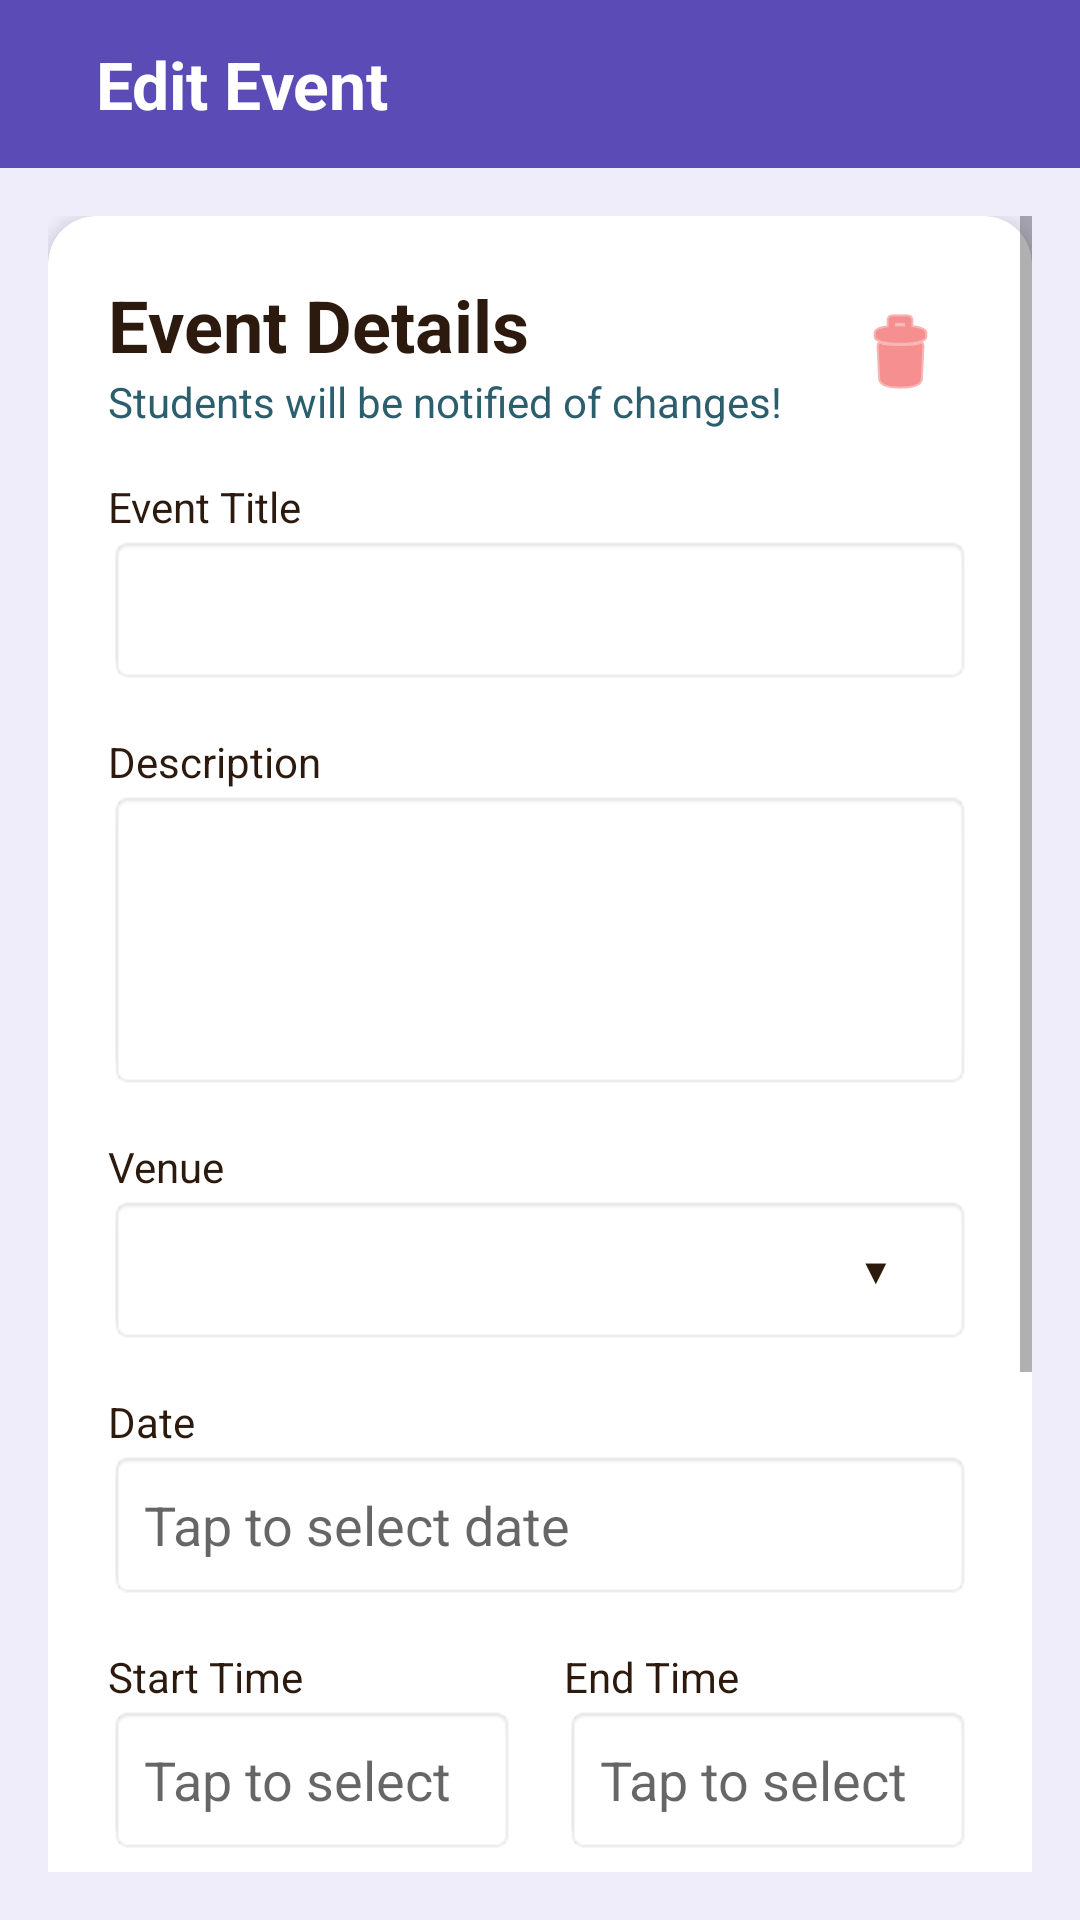

Screen size 1080px x 1920px. Icon name, then its center in pixels as [x,y]:
delete: [900,351]
